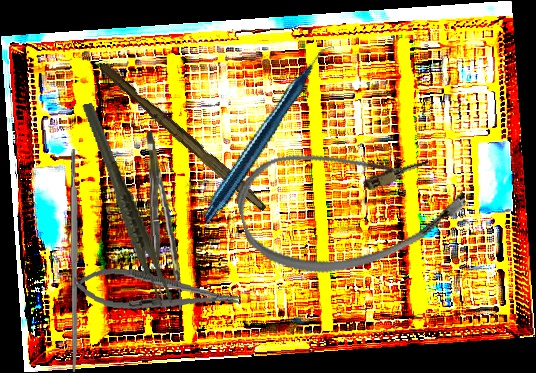Cannula: (228, 112, 475, 293)
Handpiece: (166, 45, 375, 224)
Needle Holder: (71, 262, 243, 323)
Scalpel Handle: (95, 61, 272, 212), (70, 149, 79, 372)
Tissue Forceps: (81, 94, 174, 315), (146, 130, 182, 312)
